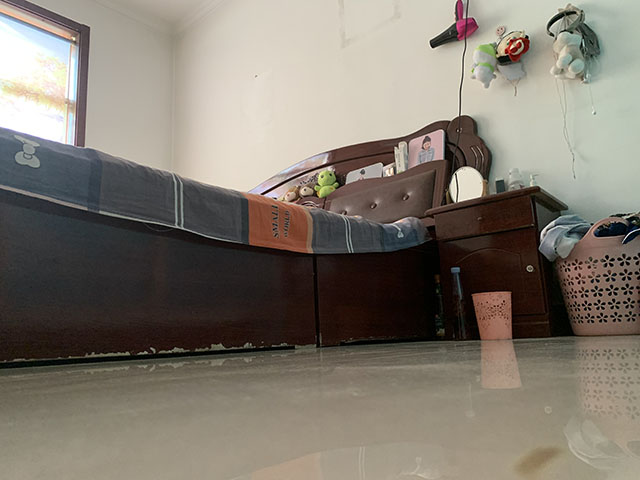bed: (1, 113, 494, 368)
cabinet: (424, 185, 570, 340)
trashcan: (470, 290, 514, 342)
